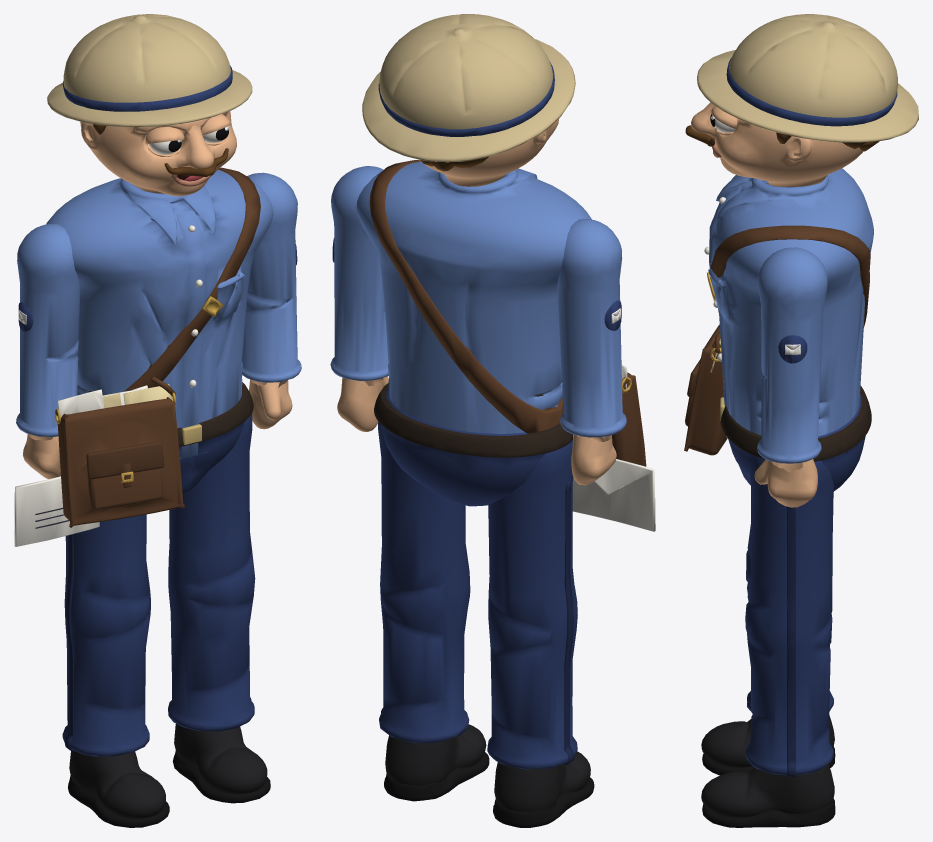
Rendered from mailman.glb.
The picture shows the model from 3 angles, left to right: view 1: azimuth 30°, elevation 25°; view 2: azimuth 150°, elevation 25°; view 3: azimuth 270°, elevation 25°; orthographic projection. The views are drawn at different scales.
Visible parts, largest first — view 1: Body_Mesh, LegL_Mesh, Head_Mesh, LegR_Mesh, ArmR_Mesh, ArmL_Mesh, Letter; view 2: Body_Mesh, LegR_Mesh, LegL_Mesh, Head_Mesh, ArmR_Mesh, ArmL_Mesh, Letter; view 3: Body_Mesh, LegL_Mesh, Head_Mesh, ArmL_Mesh, LegR_Mesh.
Part boxes in pixels (left/top/right/bottom): Body_Mesh: left=46, top=167, right=273, bottom=527; LegL_Mesh: left=168, top=413, right=270, bottom=803; Head_Mesh: left=47, top=14, right=252, bottom=196; LegR_Mesh: left=62, top=514, right=169, bottom=827; ArmR_Mesh: left=16, top=224, right=80, bottom=479; ArmL_Mesh: left=242, top=172, right=301, bottom=429; Letter: left=14, top=476, right=99, bottom=546; Body_Mesh: left=356, top=160, right=646, bottom=506; LegR_Mesh: left=487, top=440, right=594, bottom=827; LegL_Mesh: left=378, top=421, right=489, bottom=801; Head_Mesh: left=362, top=14, right=575, bottom=186; ArmR_Mesh: left=557, top=219, right=626, bottom=485; ArmL_Mesh: left=330, top=166, right=388, bottom=431; Letter: left=572, top=459, right=655, bottom=531; Body_Mesh: left=684, top=168, right=873, bottom=490; LegL_Mesh: left=701, top=456, right=835, bottom=827; Head_Mesh: left=685, top=14, right=918, bottom=187; ArmL_Mesh: left=754, top=247, right=827, bottom=507; LegR_Mesh: left=701, top=487, right=835, bottom=775.
Bounding box in the file's own units: 0.7523 × 1.84 × 0.5102.
